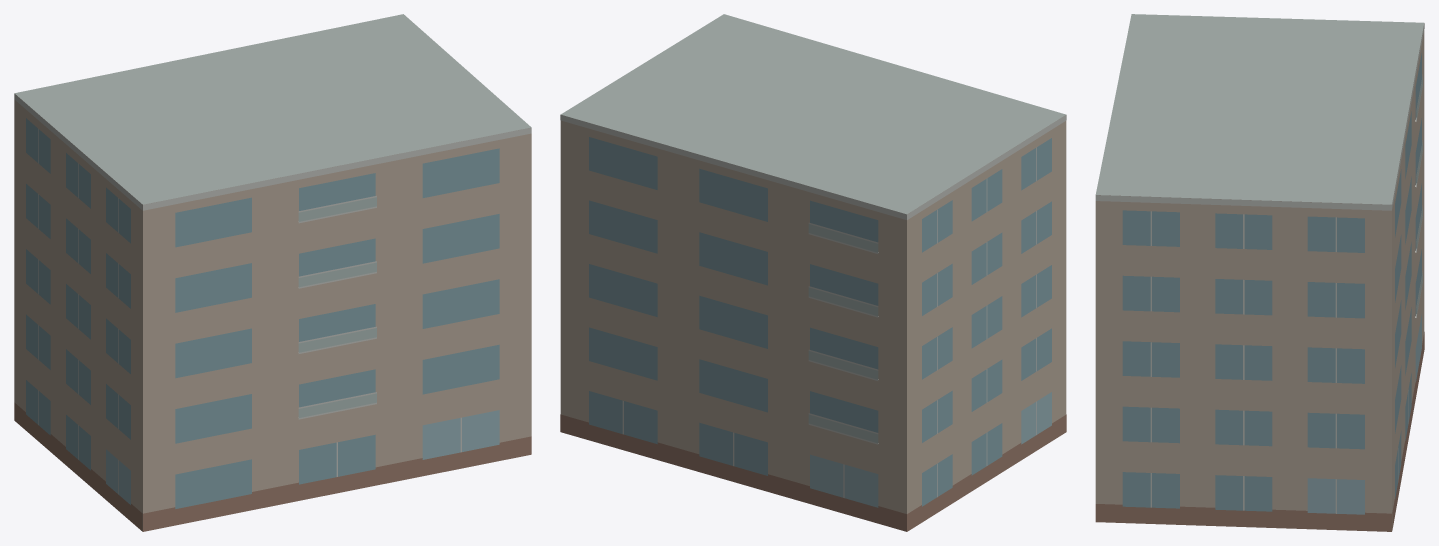
Rendered from survey-upis-32925172.glb.
The picture shows the model from 3 angles, left to right: view 1: azimuth 30°, elevation 25°; view 2: azimuth 150°, elevation 25°; view 3: azimuth 270°, elevation 25°; orthographic projection. The views are drawn at different scales.
Parts seen in each view (by area): view 1: survey-upis-32925172.tmp; view 2: survey-upis-32925172.tmp; view 3: survey-upis-32925172.tmp.
Boxes of the visible parts, x1,y1,x2,y2 form: survey-upis-32925172.tmp: (14,14,531,531); survey-upis-32925172.tmp: (560,14,1066,531); survey-upis-32925172.tmp: (1095,14,1424,531).
Bounding box in the file's own units: 16.52 × 13.2 × 12.03.
